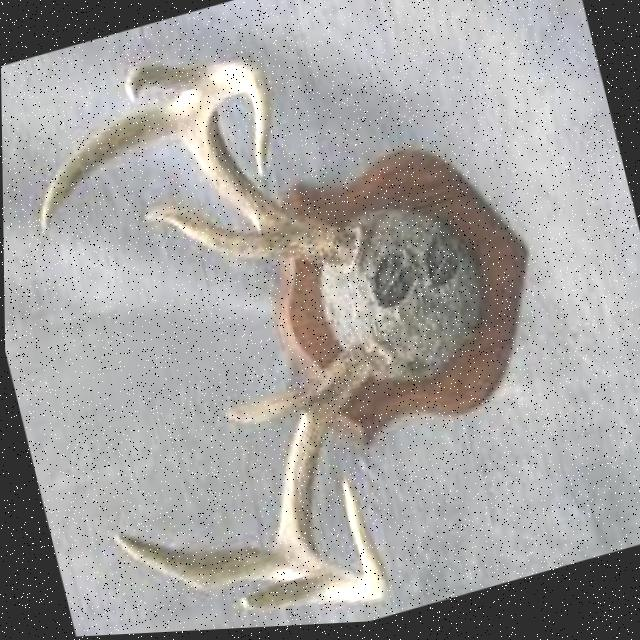L-F: (275, 345, 388, 608)
L-G1: (223, 388, 311, 429)
L-G2: (110, 532, 285, 598)
L-G3: (238, 576, 324, 618)
R-F: (174, 61, 359, 269)
R-G1: (142, 205, 272, 263)
R-G2: (37, 102, 177, 233)
R-G3: (124, 65, 203, 101)
